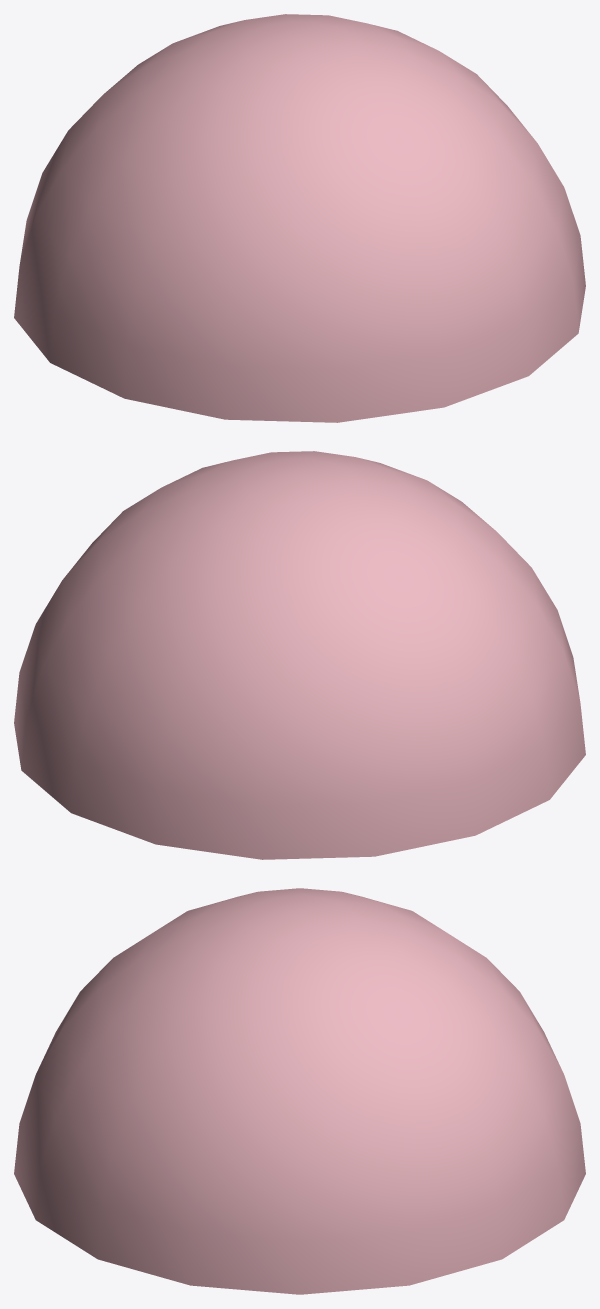
The model's file is Extension_02.fbx.
The picture shows the model from 3 angles, top to bottom: view 1: azimuth 30°, elevation 25°; view 2: azimuth 150°, elevation 25°; view 3: azimuth 270°, elevation 25°; orthographic projection.
Parts seen in each view (by area): view 1: Extension_02; view 2: Extension_02; view 3: Extension_02.
Boxes of the visible parts, <box> form: Extension_02: <box>14,14,585,422</box>; Extension_02: <box>14,451,585,859</box>; Extension_02: <box>14,888,585,1294</box>.
Bounding box in the file's own units: 1040 × 520 × 1040.
